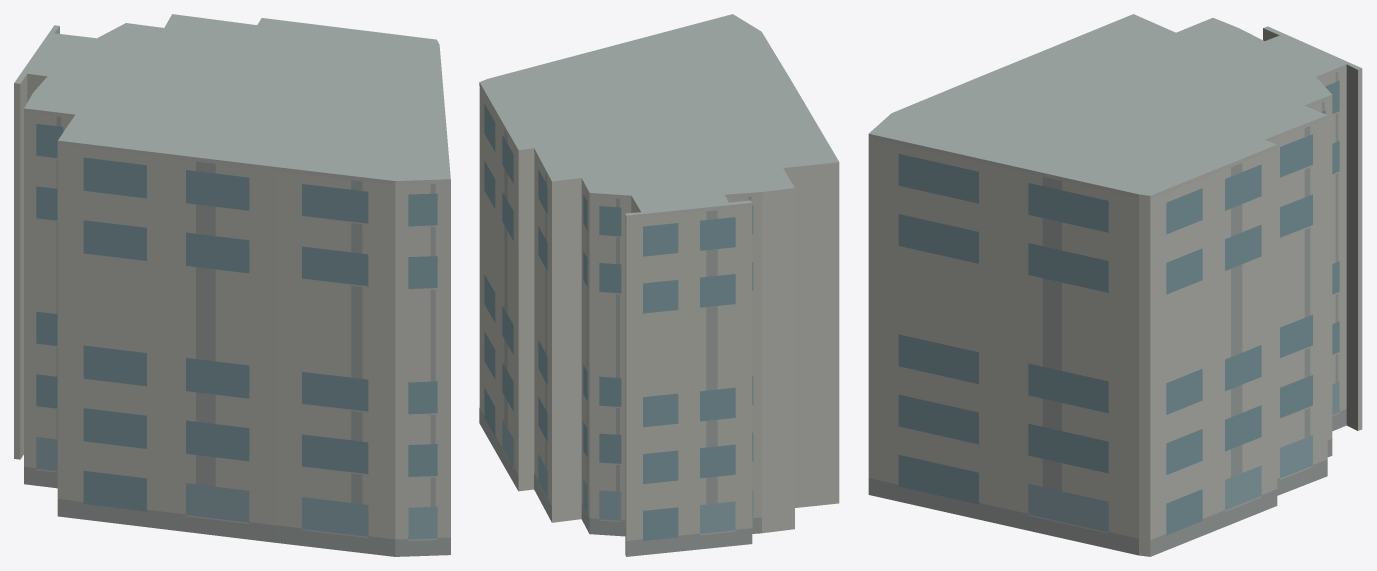
Rendered from survey-upis-33035822.glb.
3 renders of one model, left to right at view 1: azimuth 30°, elevation 25°; view 2: azimuth 150°, elevation 25°; view 3: azimuth 270°, elevation 25°, orthographic. The views are drawn at different scales.
Visible parts, largest first — view 1: survey-upis-33035822.tmp; view 2: survey-upis-33035822.tmp; view 3: survey-upis-33035822.tmp.
Part boxes in pixels (x1,y1,x2,y2): survey-upis-33035822.tmp: (14,14,450,556); survey-upis-33035822.tmp: (479,14,839,556); survey-upis-33035822.tmp: (868,14,1362,556).
Size of the model in its own units: 23.55 by 21.8 by 27.03.
